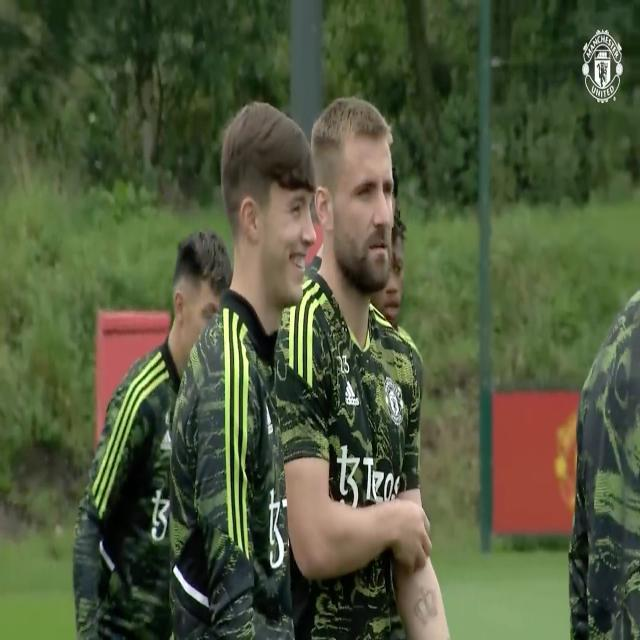Adidas: (344, 380, 359, 410)
